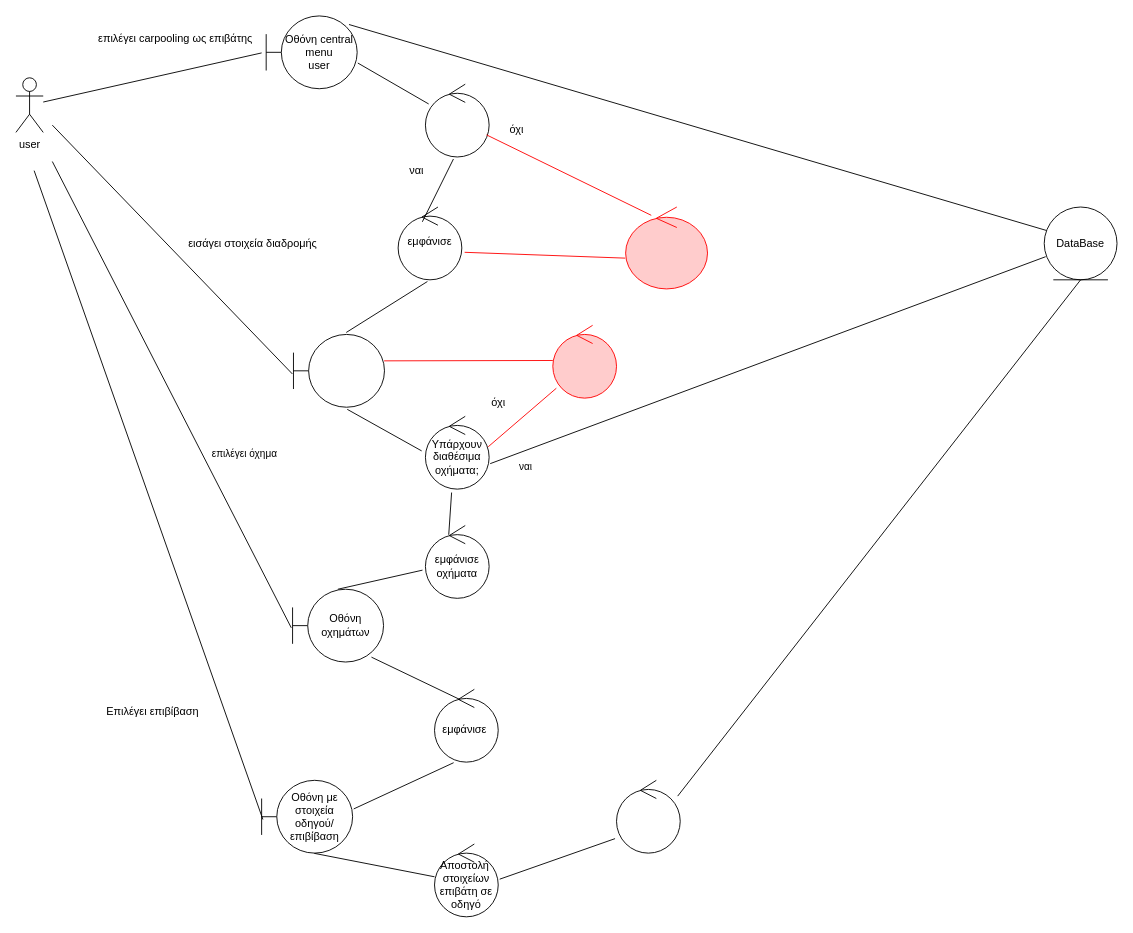
The diagram is 1133 pixels wide and 933 high, and some of its shapes have lost their labels. The shapes that lost their labels are listed below. From the top down, each one's centre as x and y in pixels, then its label:
At pixel 457 120: "είναι verified;".
At pixel 666 247: "εμφάνισε μήνυμα 'Χρειάζετα επιβεβαίωση στοιχείων '".
At pixel 338 370: "Οθόνη εισαγωγής στοιχείων διαδρομής".
At pixel 584 361: "εμφάνισε 'No results'".
At pixel 648 816: "καταχώρηση αιτήματος".
